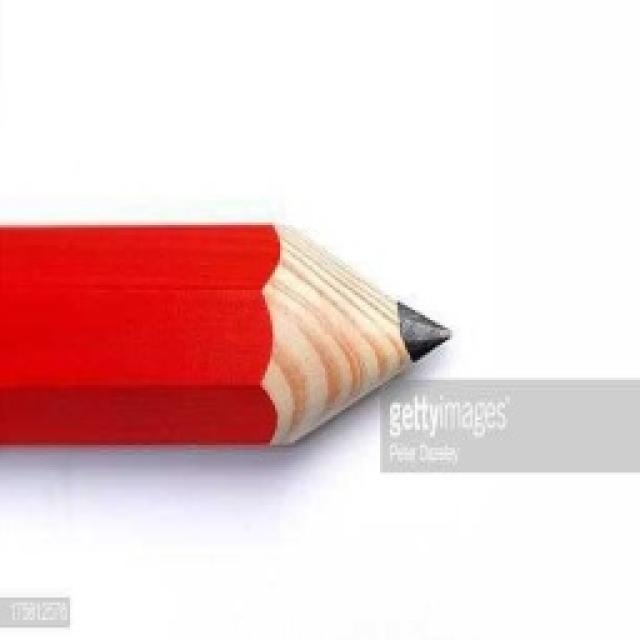pencil: (0, 215, 452, 450)
